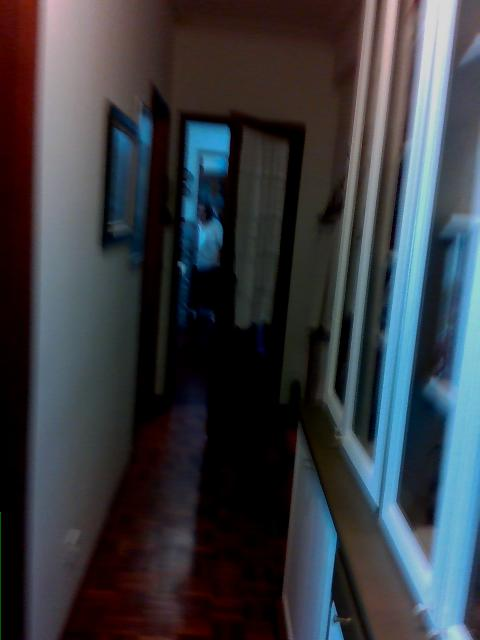semi_door: (158, 107, 305, 440)
